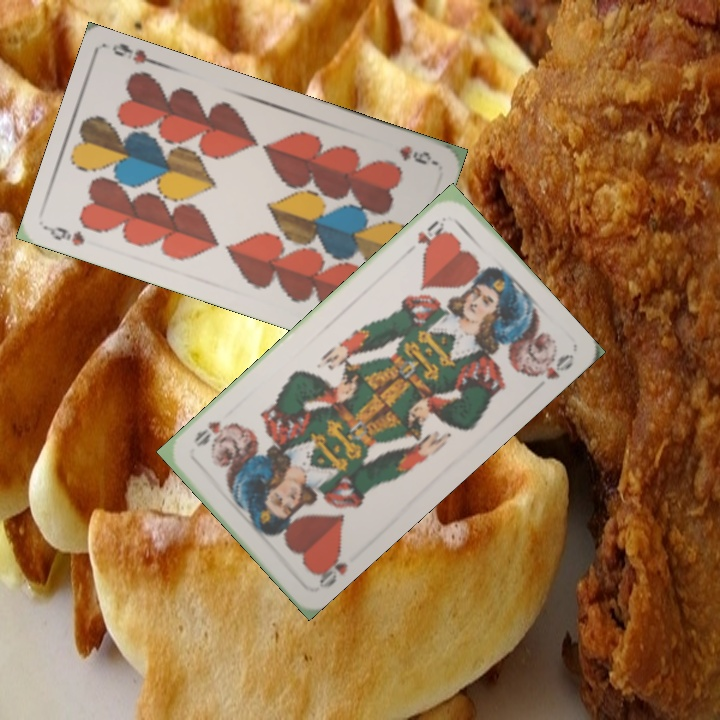H9: (44, 222, 87, 249), (395, 141, 436, 168)
HO: (309, 545, 351, 591), (412, 216, 449, 253)
